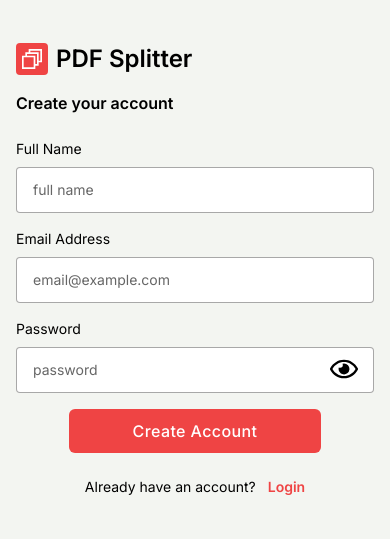
Scenario: RegisterPage Component › renders error message if form fields are empty on form submission
Click the button "Create Account": (195, 431) [69,409,322,453]
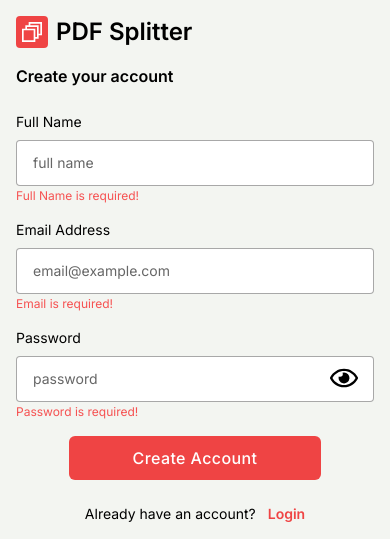
Result: the text "Full Name is required!" is shown at [16,188,139,203]
Result: the text "Email is required!" is shown at [16,296,113,311]
Result: the text "Password is required!" is shown at [16,404,138,419]
